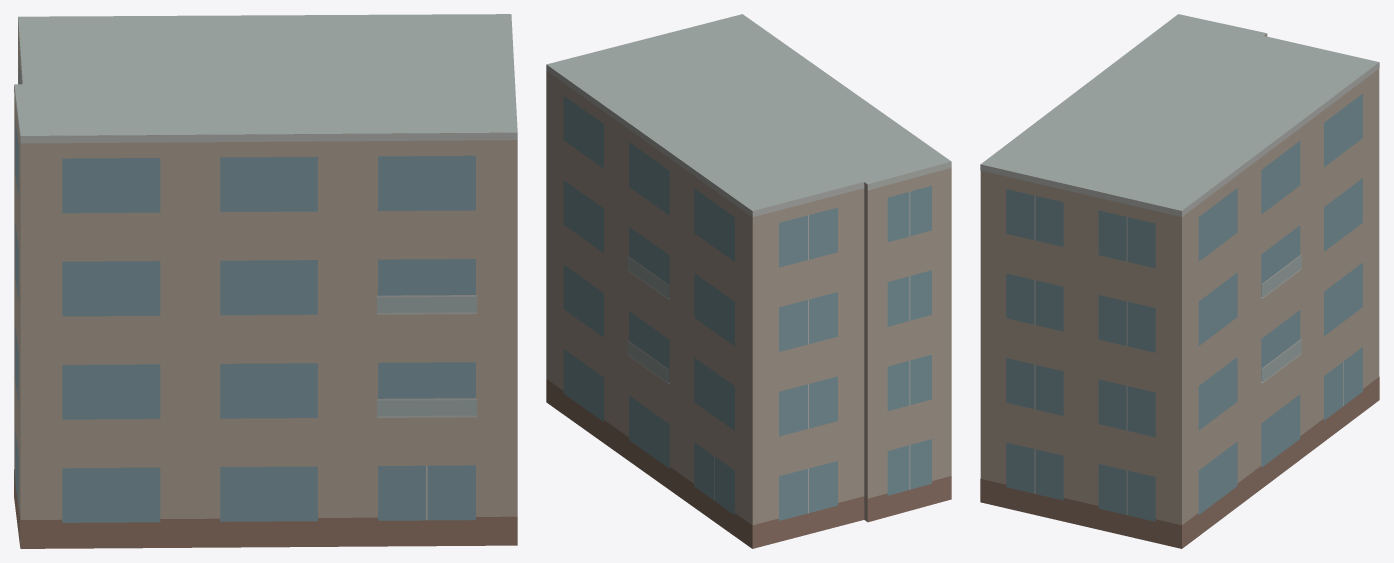
File: survey-upis-32776595.glb
3 views of the same model, side by side, from view 1: azimuth 30°, elevation 25°; view 2: azimuth 150°, elevation 25°; view 3: azimuth 270°, elevation 25° (orthographic). The views are drawn at different scales.
Visible parts, largest first — view 1: survey-upis-32776595.tmp; view 2: survey-upis-32776595.tmp; view 3: survey-upis-32776595.tmp.
Part boxes in pixels (x1,y1,x2,y2): survey-upis-32776595.tmp: (14, 14, 517, 548); survey-upis-32776595.tmp: (546, 14, 951, 548); survey-upis-32776595.tmp: (980, 14, 1379, 548).
Size of the model in its own units: 16.75 by 13.39 by 14.34.
